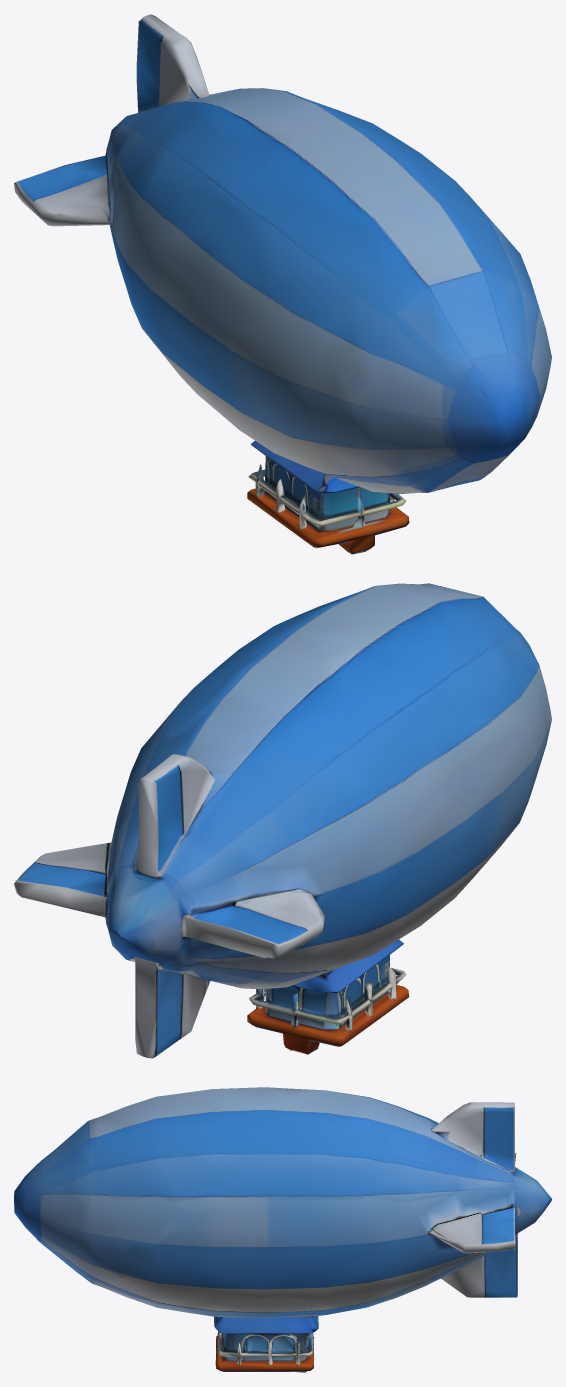
Rendered from SM_Prop_Blimp_01.glb.
The picture shows the model from 3 angles, top to bottom: view 1: azimuth 30°, elevation 25°; view 2: azimuth 150°, elevation 25°; view 3: azimuth 270°, elevation 25°; orthographic projection. The views are drawn at different scales.
Parts seen in each view (by area): view 1: tripo_node_33a6560b-0361-4170-ba6a-0ed2c5a7e7e6; view 2: tripo_node_33a6560b-0361-4170-ba6a-0ed2c5a7e7e6; view 3: tripo_node_33a6560b-0361-4170-ba6a-0ed2c5a7e7e6.
Part boxes in pixels (x1,y1,x2,y2): tripo_node_33a6560b-0361-4170-ba6a-0ed2c5a7e7e6: (14, 14, 551, 554); tripo_node_33a6560b-0361-4170-ba6a-0ed2c5a7e7e6: (14, 583, 551, 1058); tripo_node_33a6560b-0361-4170-ba6a-0ed2c5a7e7e6: (14, 1087, 551, 1372).
Bounding box in the file's own units: 0.4219 × 0.5563 × 1.
Materials: 1 (1 with a texture image).
